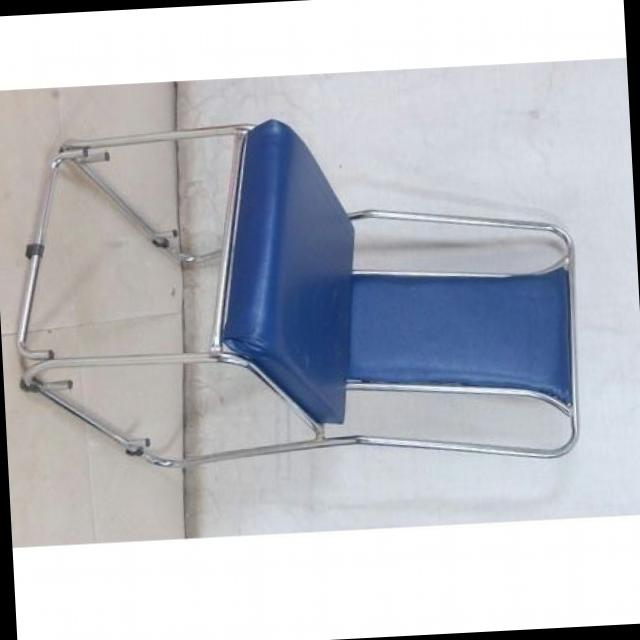Chair: (0, 104, 586, 490)
